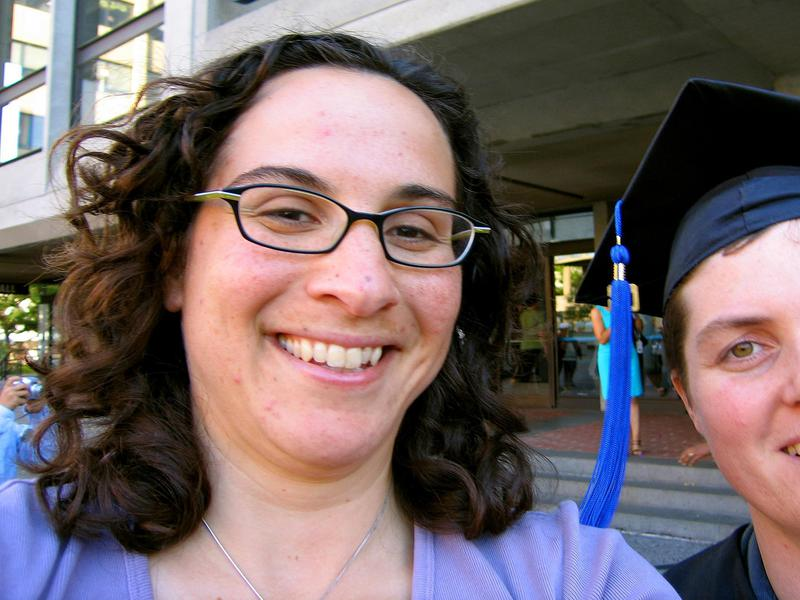person: (1, 29, 677, 600), (582, 65, 800, 599)
